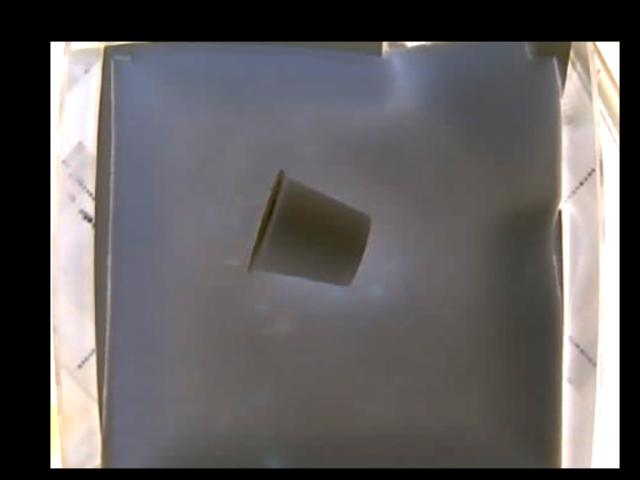Cup: (249, 169, 373, 286)
